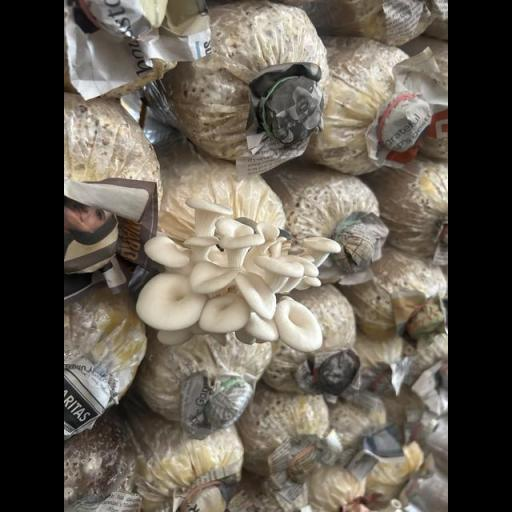White Oyster Mushroom: (128, 188, 352, 363)
